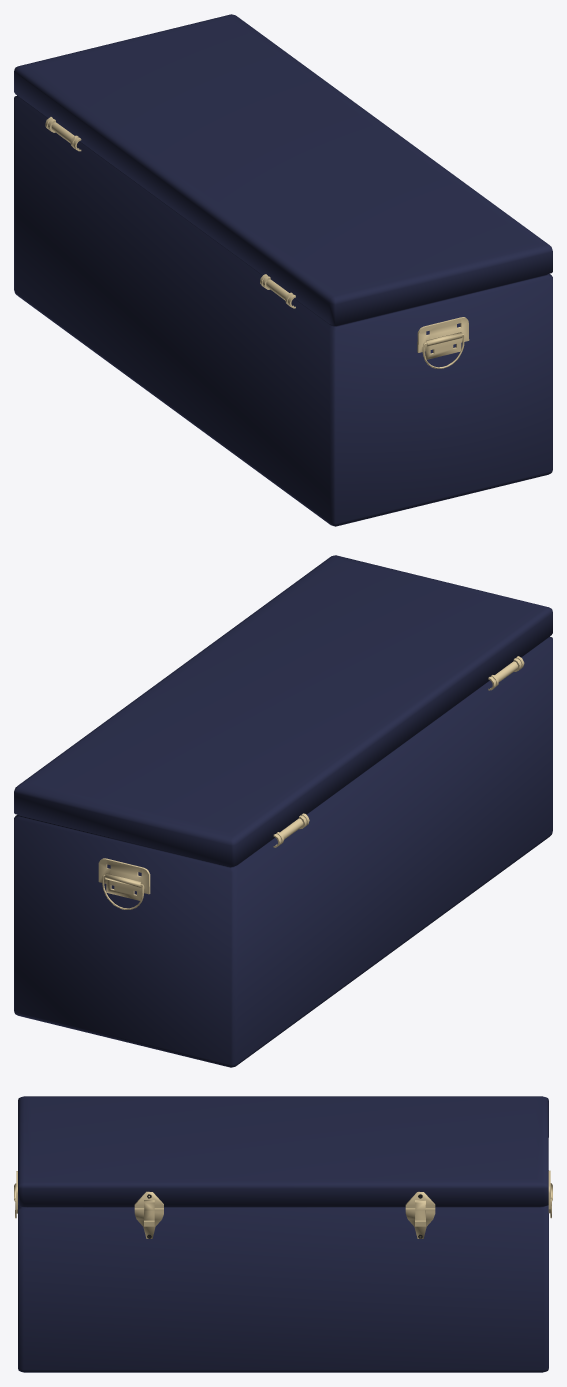
The model's file is Cassone.fbx.
3 views of the same model, one above another, from view 1: azimuth 30°, elevation 25°; view 2: azimuth 150°, elevation 25°; view 3: azimuth 270°, elevation 25° (orthographic). The views are drawn at different scales.
Parts seen in each view (by area): view 1: Cassone; view 2: Cassone; view 3: Cassone.
Boxes of the visible parts, bbox=[...] form: Cassone: bbox=[14, 14, 552, 526]; Cassone: bbox=[14, 555, 552, 1067]; Cassone: bbox=[14, 1096, 552, 1372].
Bounding box in the file's own units: 42.58 × 40 × 101.
